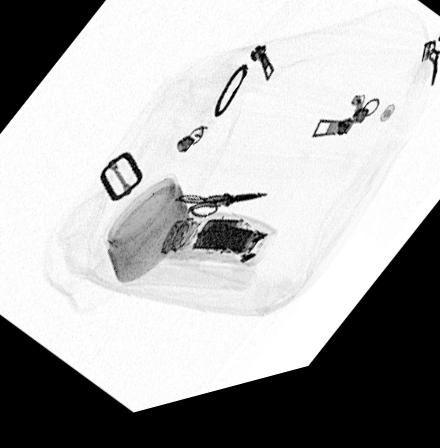Scissors: (171, 203, 269, 227)
